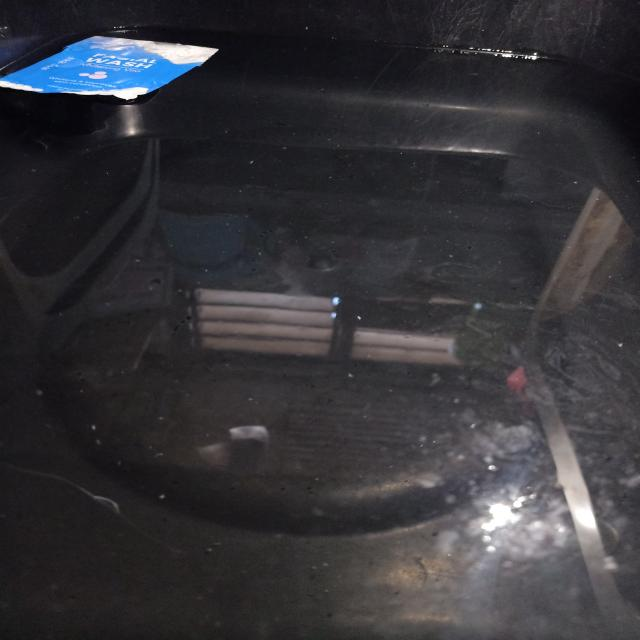Plastic Wrapper: (3, 37, 218, 105)
